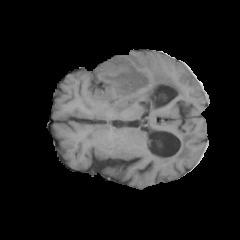glioma: (83, 55, 187, 113)
